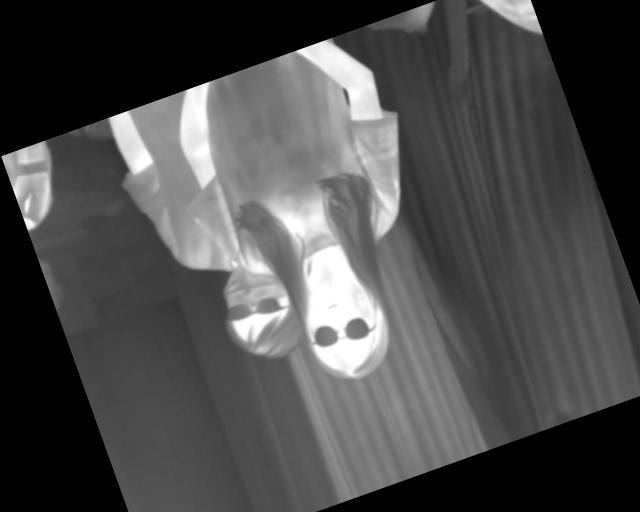face: (292, 263, 401, 389), (207, 251, 307, 371)
